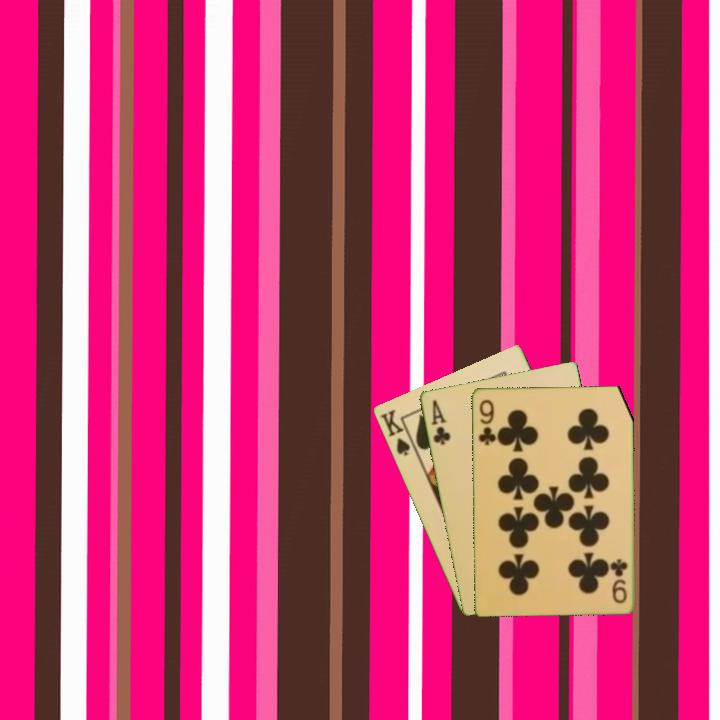9c: (475, 396, 498, 448), (608, 555, 630, 606)
Ac: (427, 396, 453, 448)
Ks: (376, 405, 418, 459)
